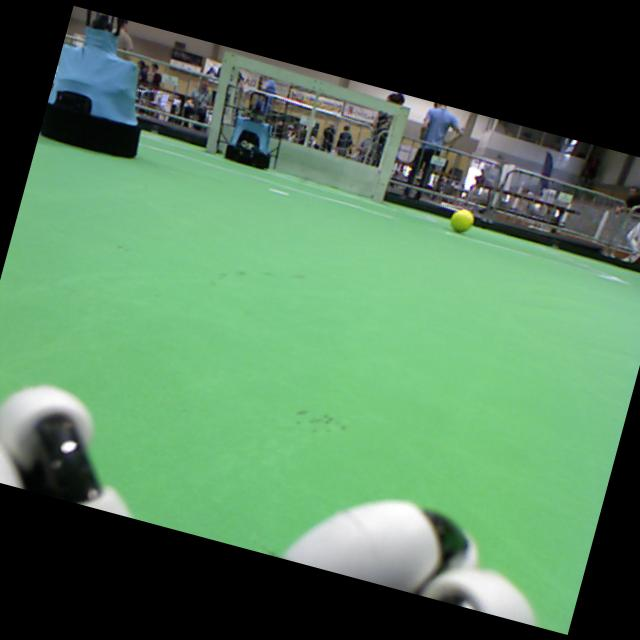ball: (449, 209, 473, 231)
goal: (204, 51, 238, 154), (373, 106, 408, 202)
